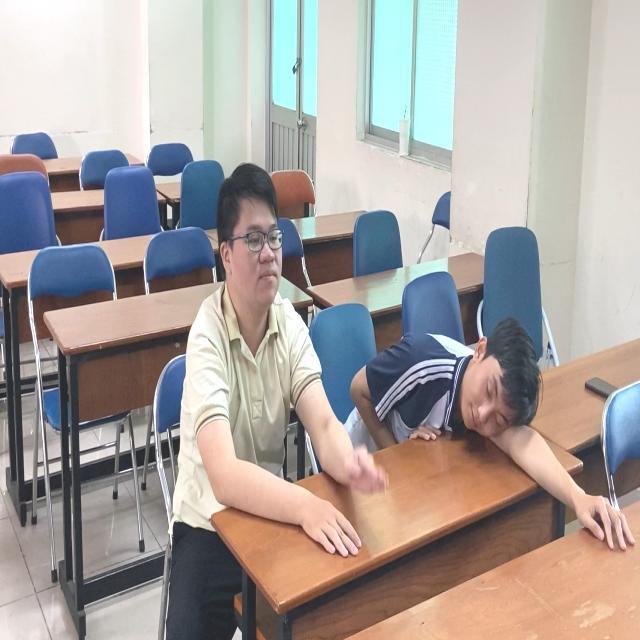sleep: (352, 313, 604, 489)
